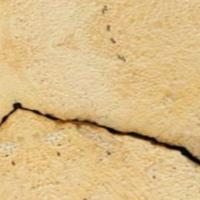crack: (2, 87, 199, 185)
